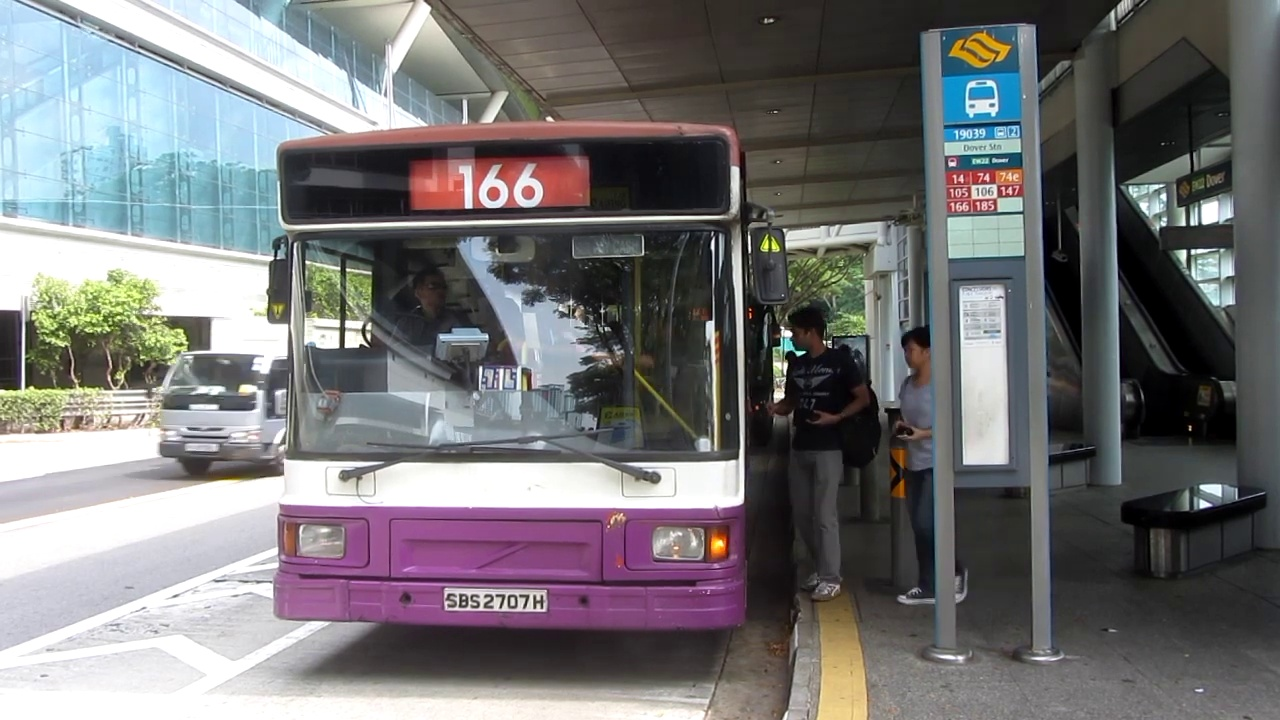bus panel: (406, 154, 595, 212)
